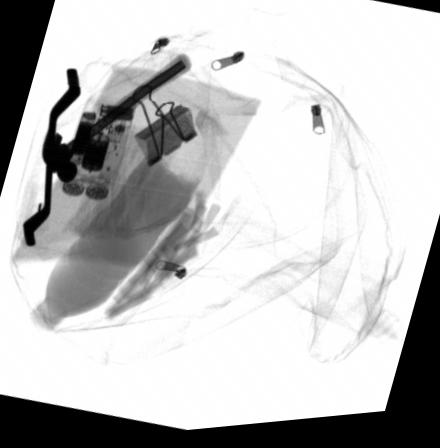Hammer: (40, 56, 191, 182)
Wrench: (22, 68, 80, 246)
